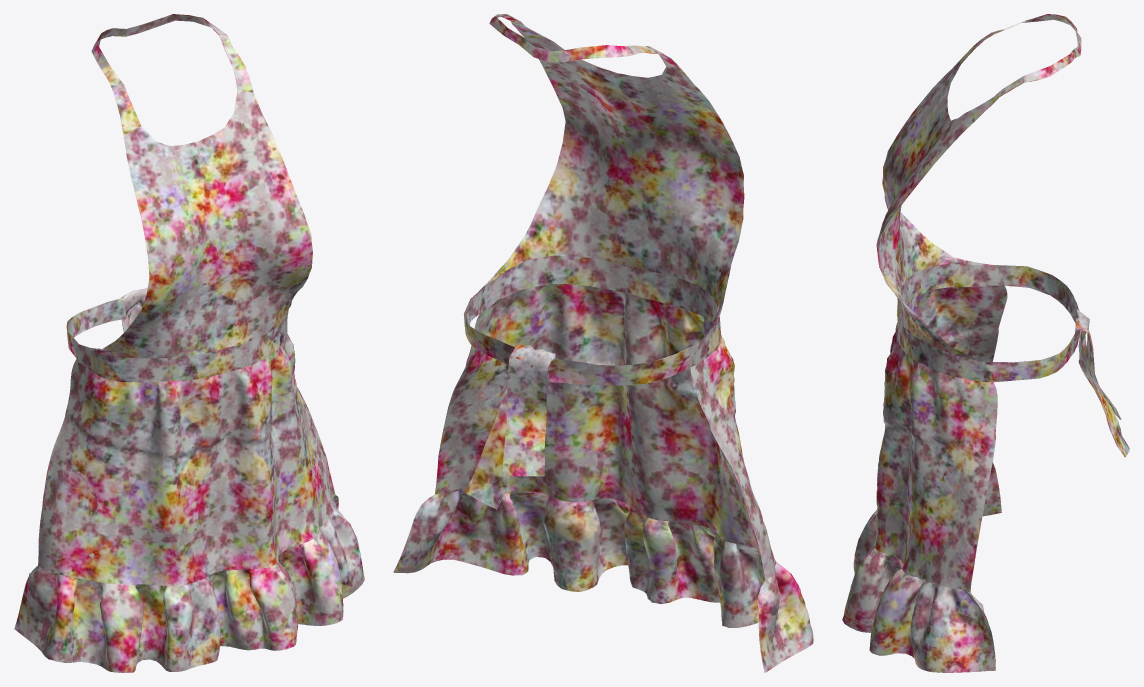
The model's file is elvs-ladies-apron.glb.
3 renders of one model, left to right at view 1: azimuth 30°, elevation 25°; view 2: azimuth 150°, elevation 25°; view 3: azimuth 270°, elevation 25°, orthographic. The views are drawn at different scales.
Visible parts, largest first — view 1: Human.elvs_ladies_apron; view 2: Human.elvs_ladies_apron; view 3: Human.elvs_ladies_apron.
Part boxes in pixels (left/top/right/bottom): Human.elvs_ladies_apron: left=14, top=14, right=364, bottom=672; Human.elvs_ladies_apron: left=393, top=14, right=813, bottom=672; Human.elvs_ladies_apron: left=842, top=14, right=1129, bottom=672.
Bounding box in the file's own units: 0.4232 × 0.6801 × 0.3102.
Materials: 1 (1 with a texture image).
